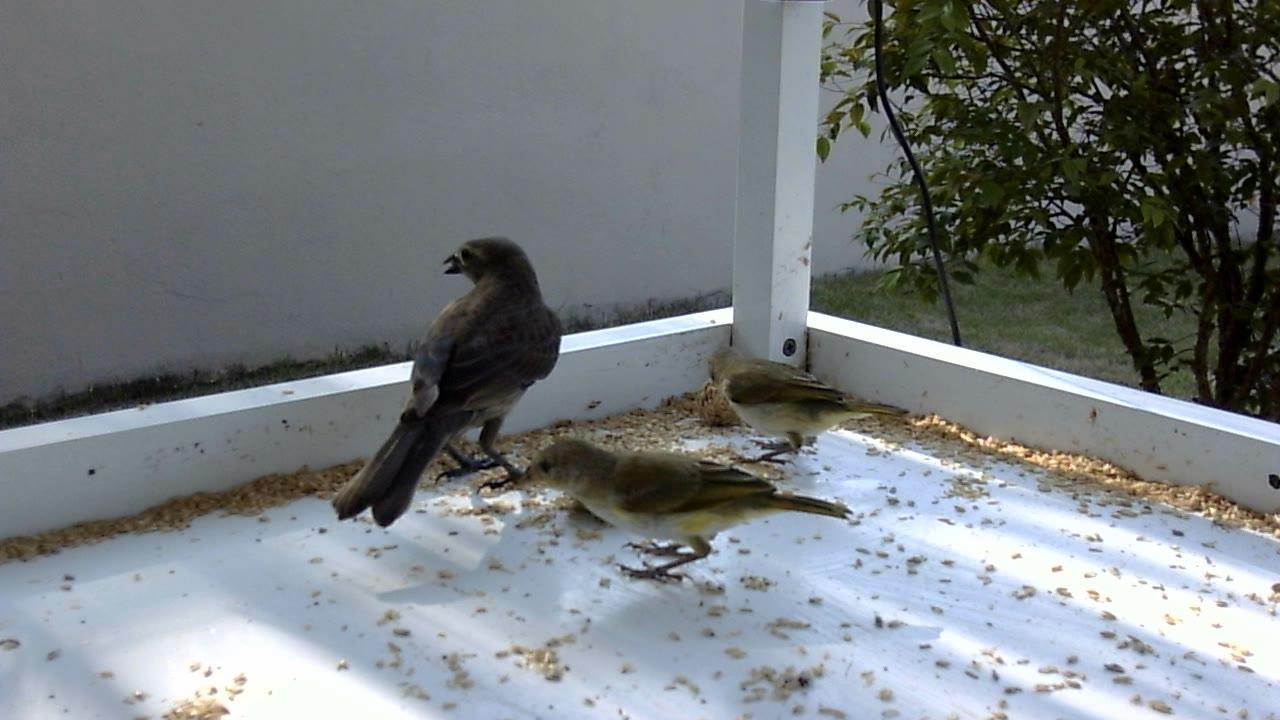canario_do_amazonas: (510, 437, 856, 589), (703, 344, 913, 471)
chupim: (327, 231, 570, 531)
